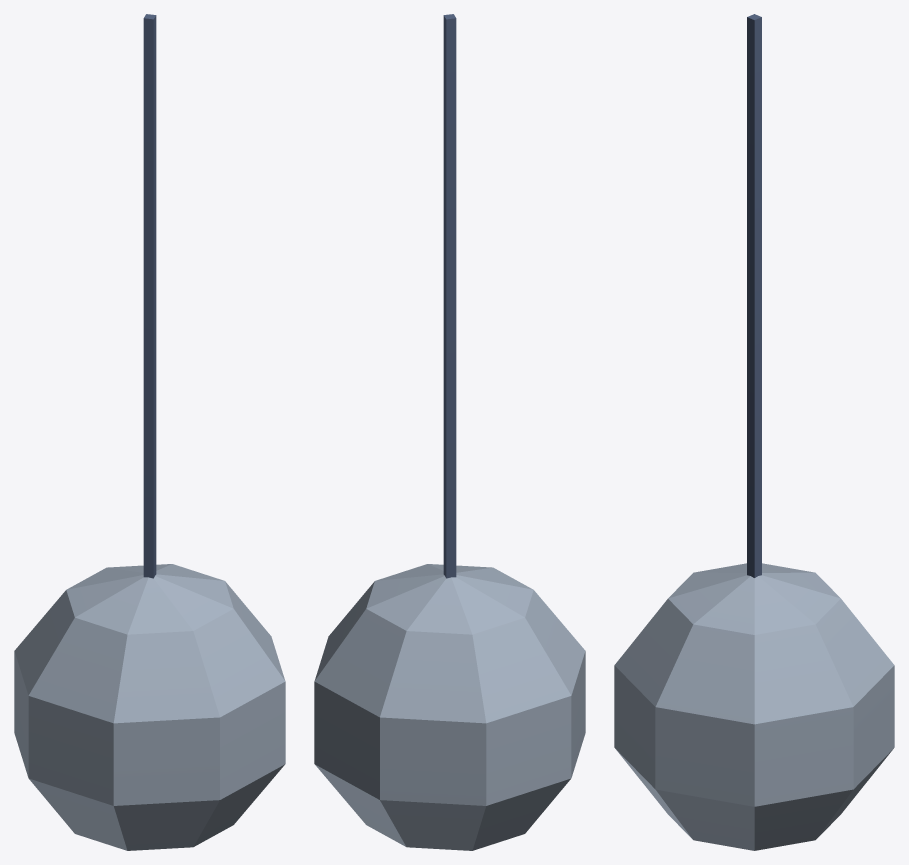
Rendered from glow_orb_chain.glb.
3 renders of one model, left to right at view 1: azimuth 30°, elevation 25°; view 2: azimuth 150°, elevation 25°; view 3: azimuth 270°, elevation 25°, orthographic.
Visible parts, largest first — view 1: glow_orb_chain; view 2: glow_orb_chain; view 3: glow_orb_chain.
Boxes of the visible parts, x1,y1,x2,y2 form: glow_orb_chain: (14, 14, 285, 850); glow_orb_chain: (314, 14, 585, 850); glow_orb_chain: (614, 14, 894, 850).
Bounding box in the file's own units: 0.5706 × 1.85 × 0.5706.
